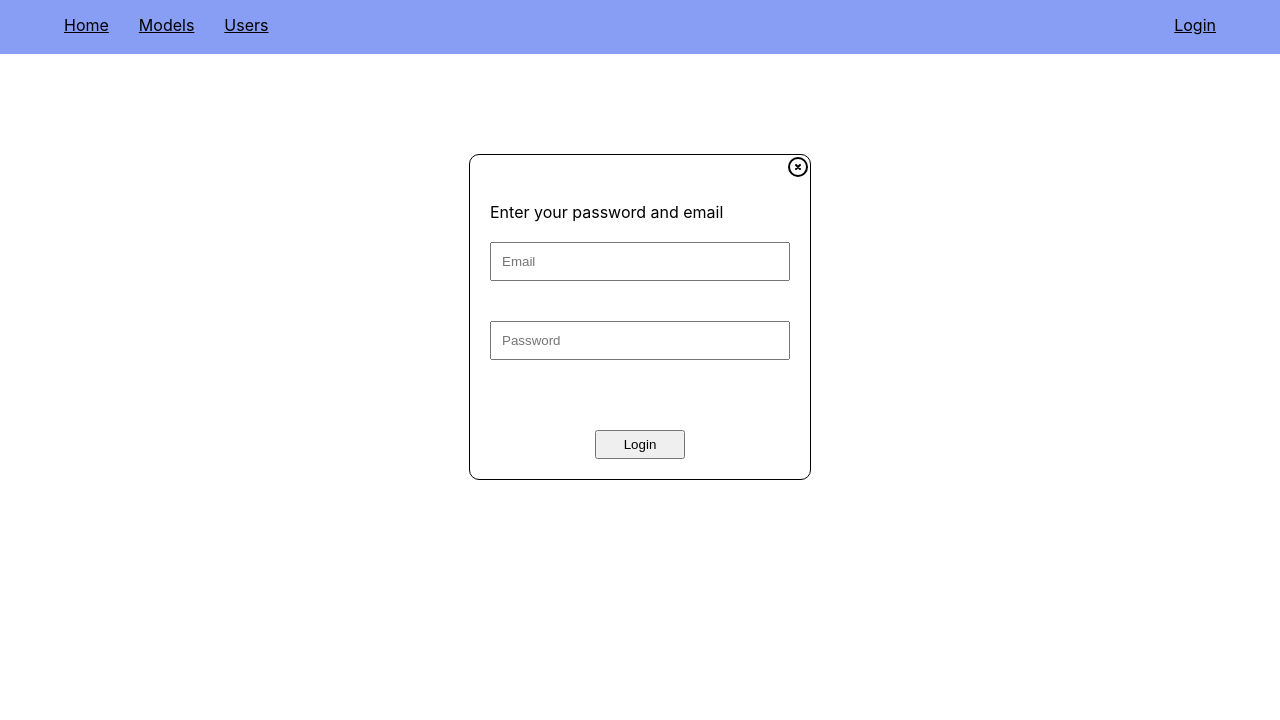
Test: login page › empty input, validation errors should be displayed
Click the button "Login" at (640, 445), box [595, 430, 685, 459]
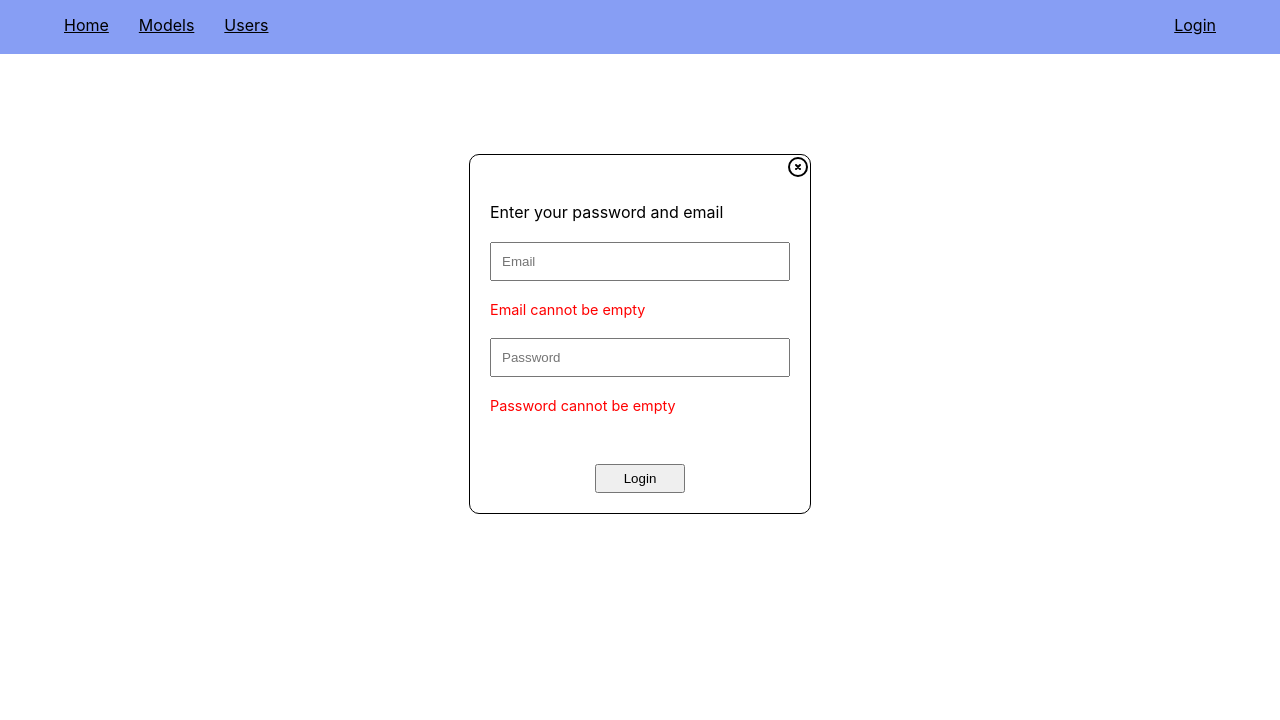
Expected: the text "Email cannot be empty" is shown, [490, 301, 645, 318]
Expected: the text "Password cannot be empty" is shown, [490, 397, 676, 414]
